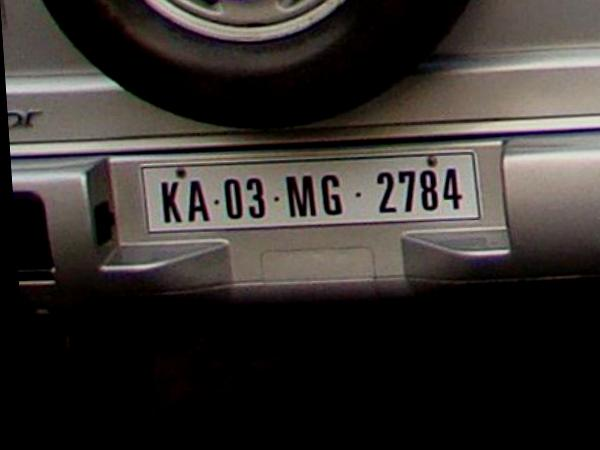License_Plate: (140, 156, 480, 229)
